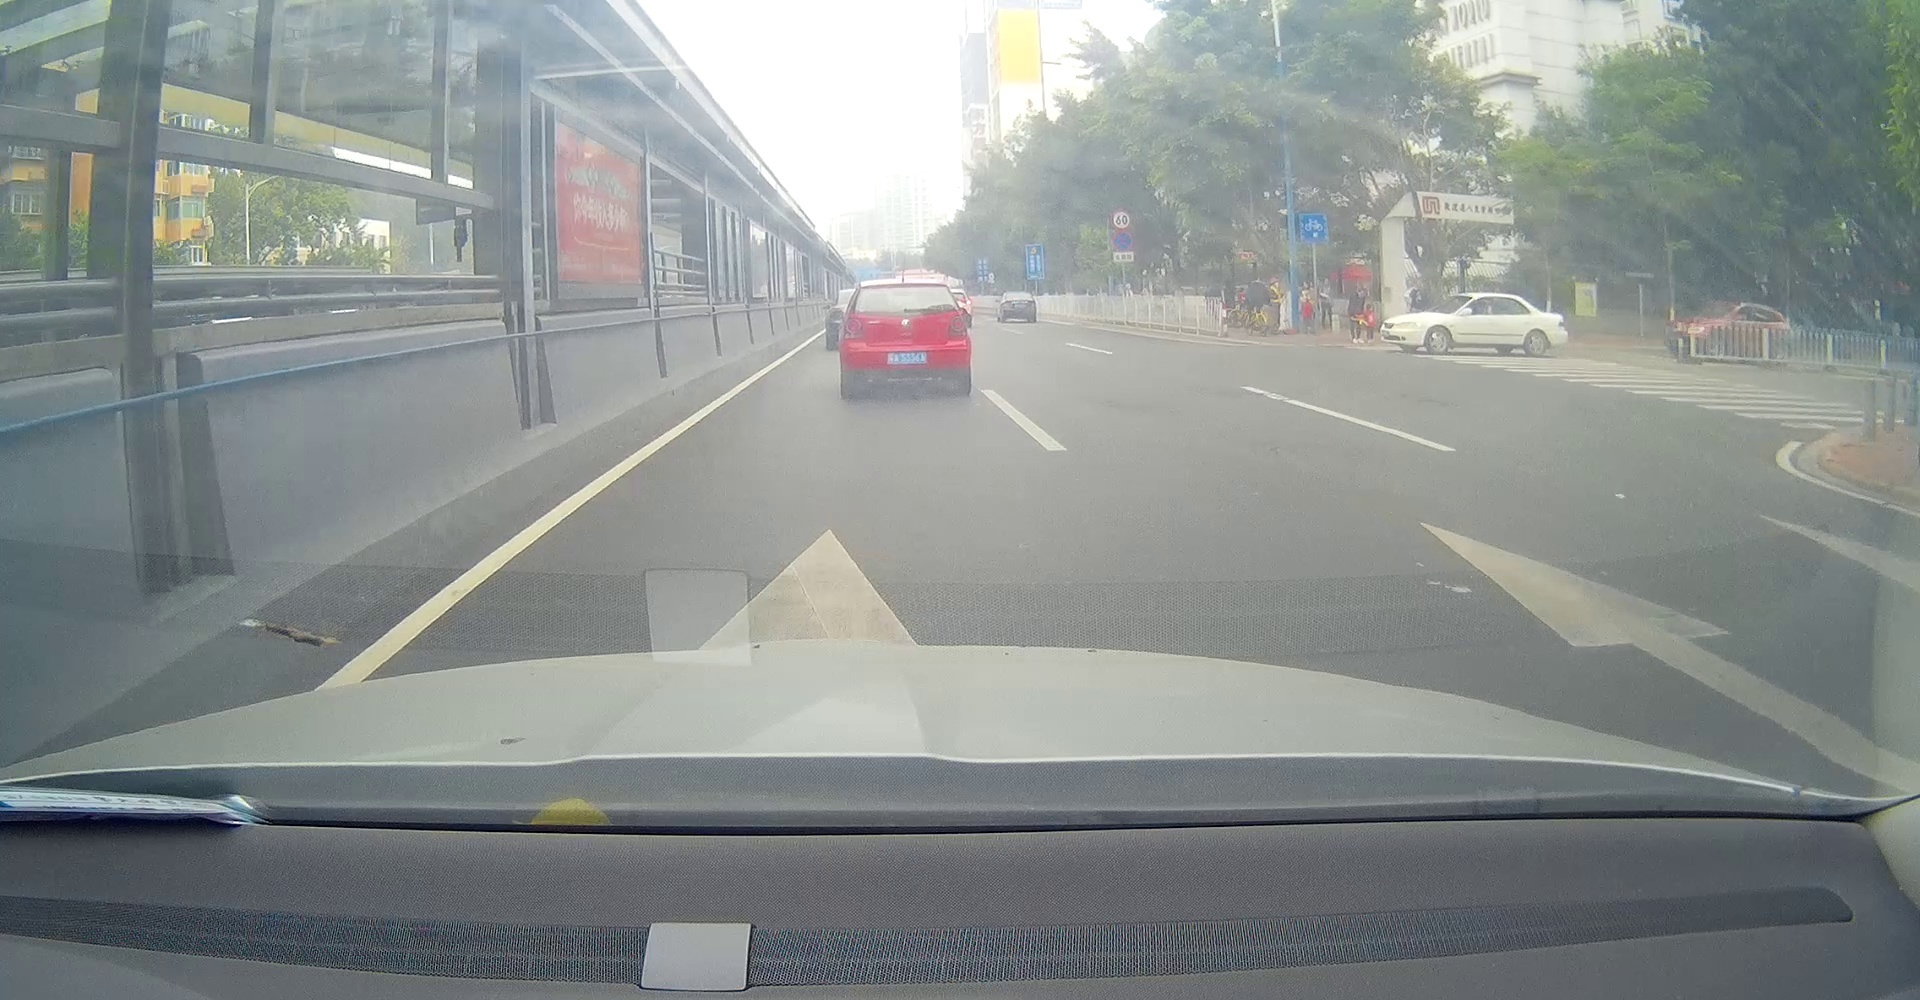L_light: (844, 319, 863, 339)
R_light: (949, 316, 966, 338)
T_light: (899, 286, 917, 291)
day-no: (841, 282, 971, 398)
